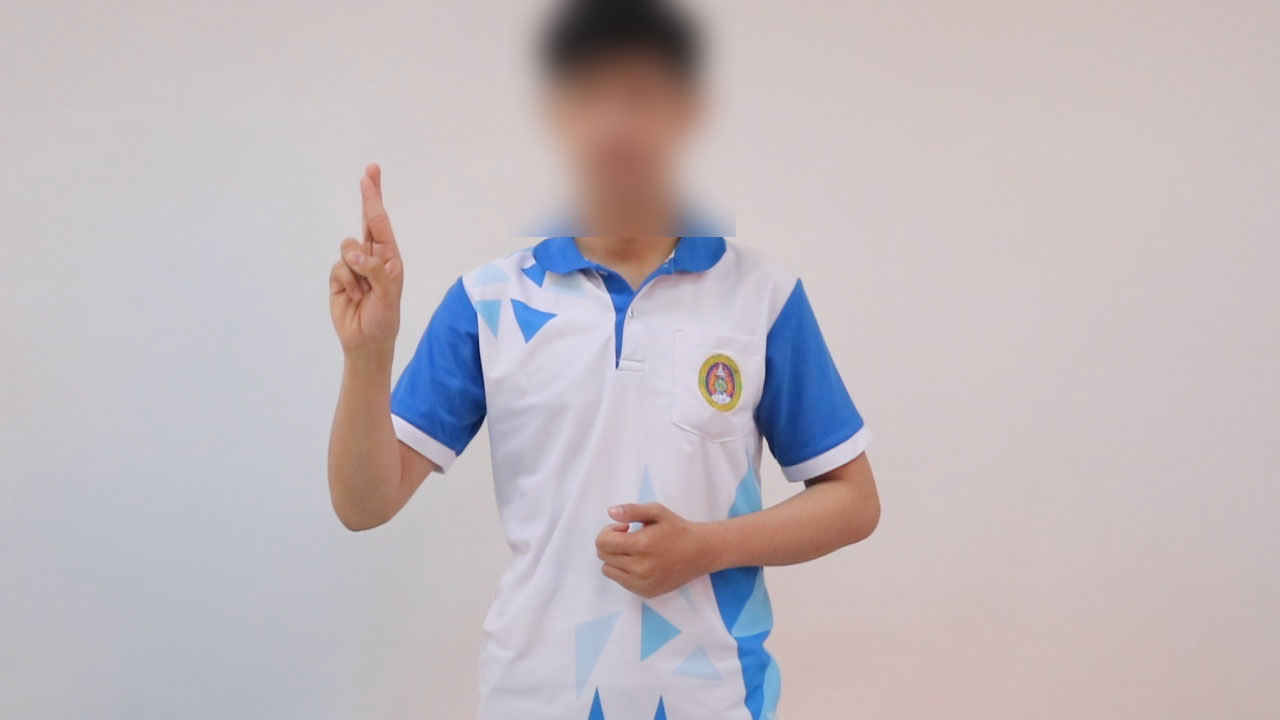rao: (312, 151, 428, 364)
